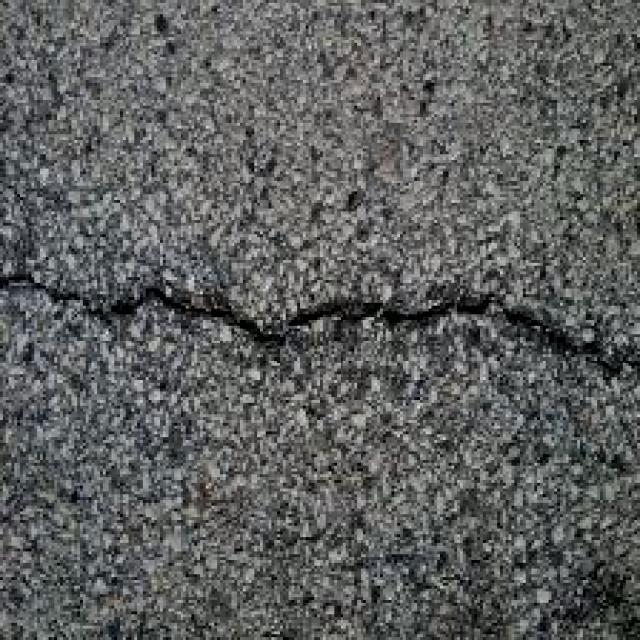crack: (0, 242, 640, 428)
